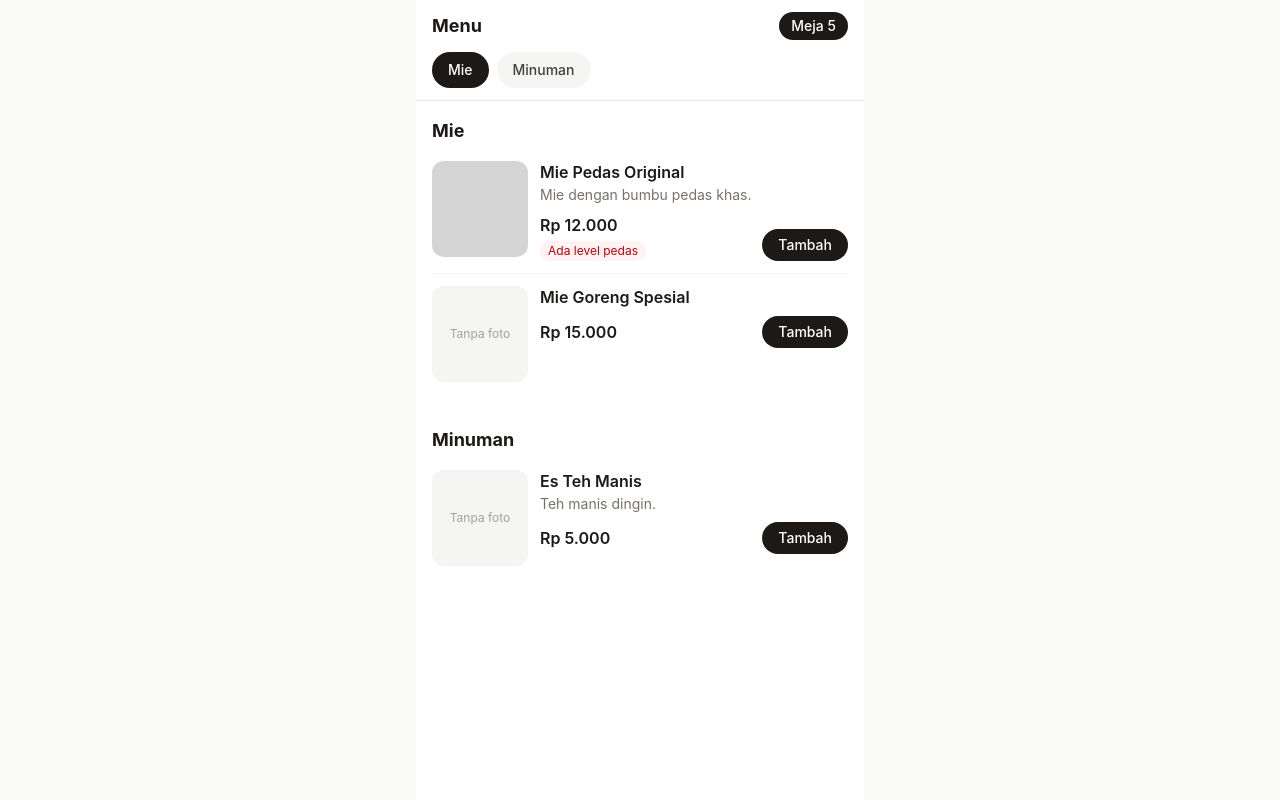
Test: keranjang di halaman menu › menu dengan level pedas wajib memilih level dan catatan tampil di keranjang
The image size is (1280, 800).
Click the button with aria-label "Tambah Mie Pedas Original". click: point(805, 245)
box: x1=762 y1=229 x2=848 y2=261
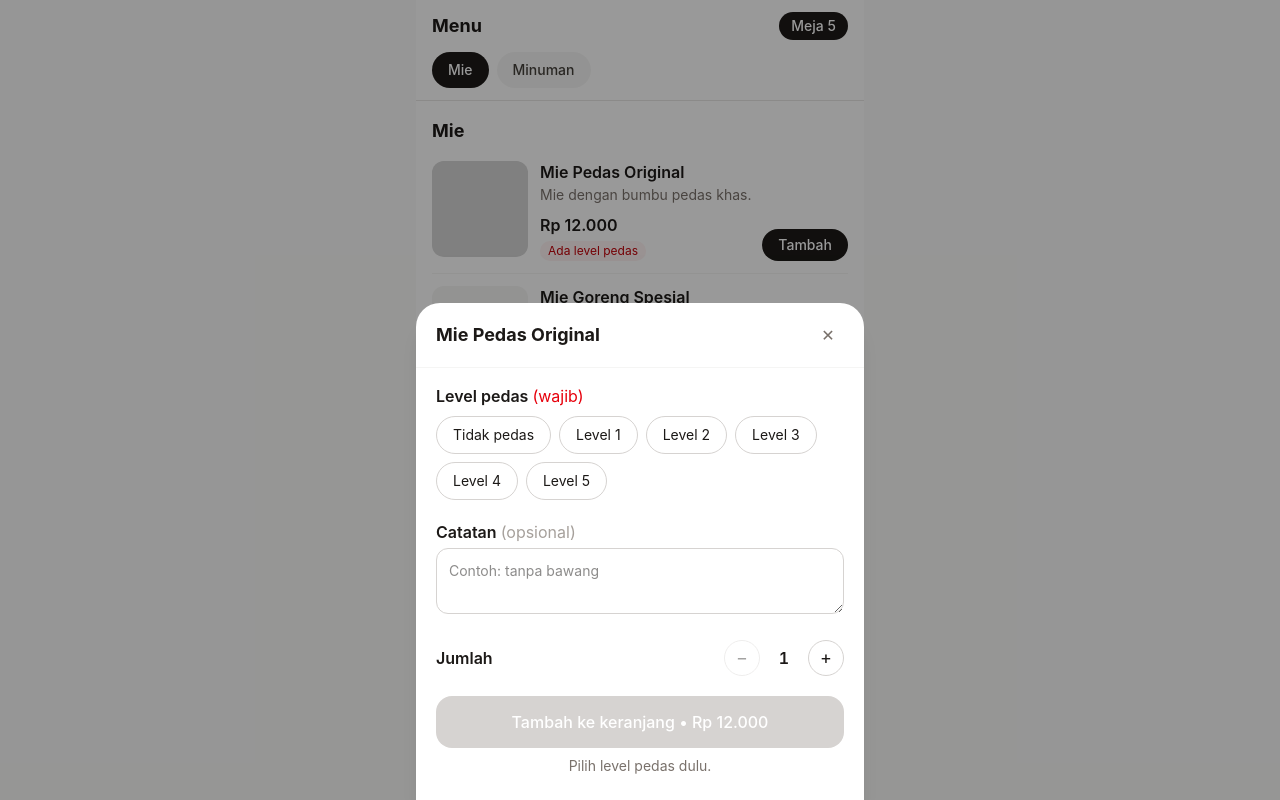
Expected: the button "Tambah ke keranjang • Rp 12.000" is disabled, x1=436 y1=696 x2=844 y2=748
Click the radio button labelled "Level 3". click: point(776, 435)
box: x1=735 y1=416 x2=817 y2=454
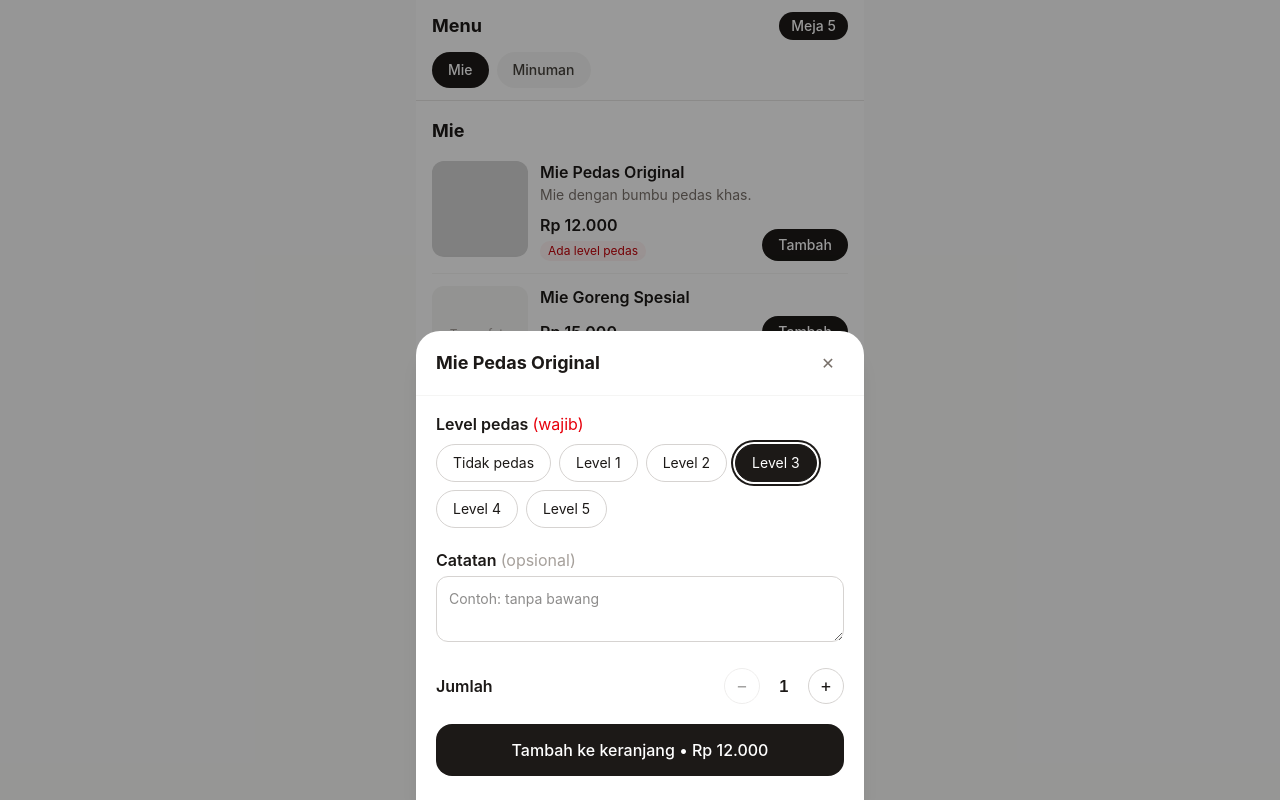
Type "Tanpa bawang" into the text box labelled "Catatan (opsional)". click: point(640, 609)
box: x1=436 y1=576 x2=844 y2=642
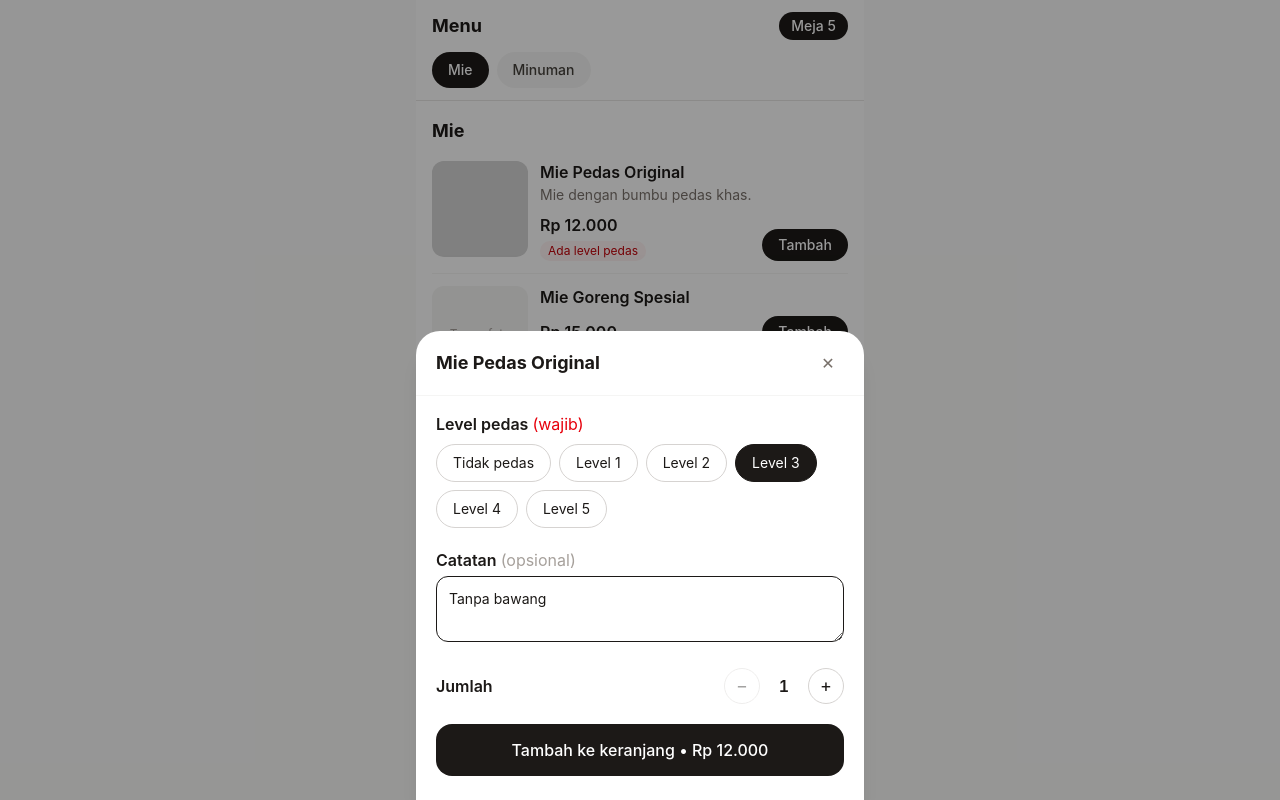
Click the button "Tambah ke keranjang • Rp 12.000". click: point(640, 750)
box: x1=436 y1=724 x2=844 y2=776
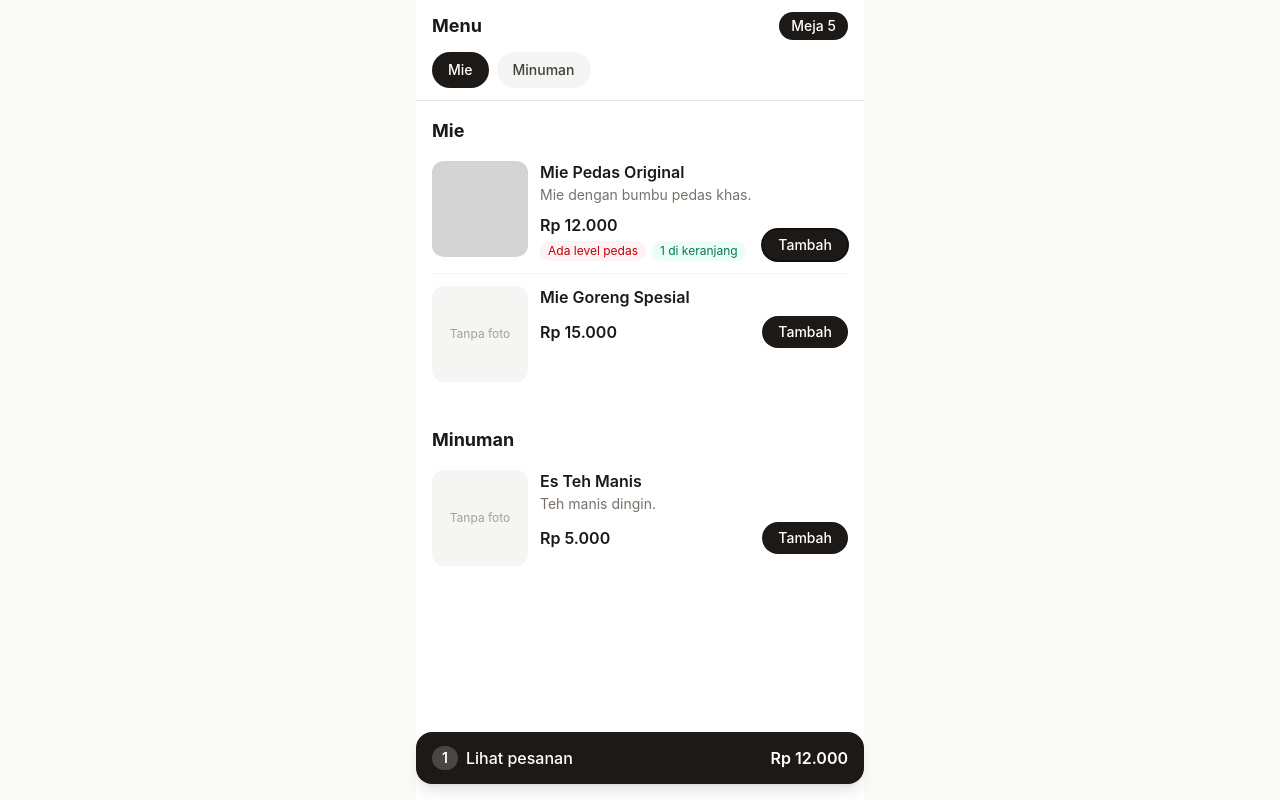
Click the button "1 Lihat pesanan Rp 12.000". click: point(519, 758)
box: x1=416 y1=732 x2=864 y2=784
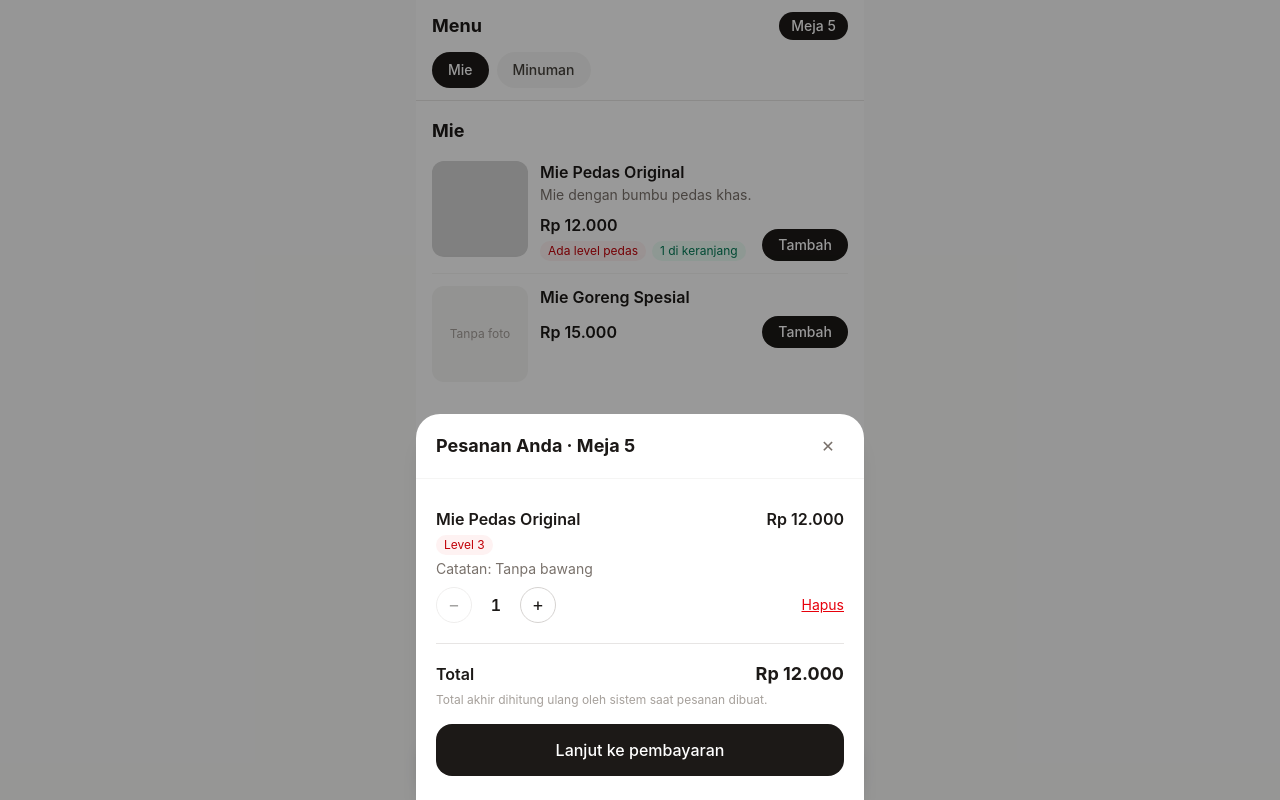
Expected: the text "Mie Pedas Original" is shown, x1=436 y1=507 x2=593 y2=531
Expected: the text "Level 3" is shown, x1=436 y1=535 x2=493 y2=555
Expected: the text "Catatan: Tanpa bawang" is shown, x1=436 y1=559 x2=593 y2=579
